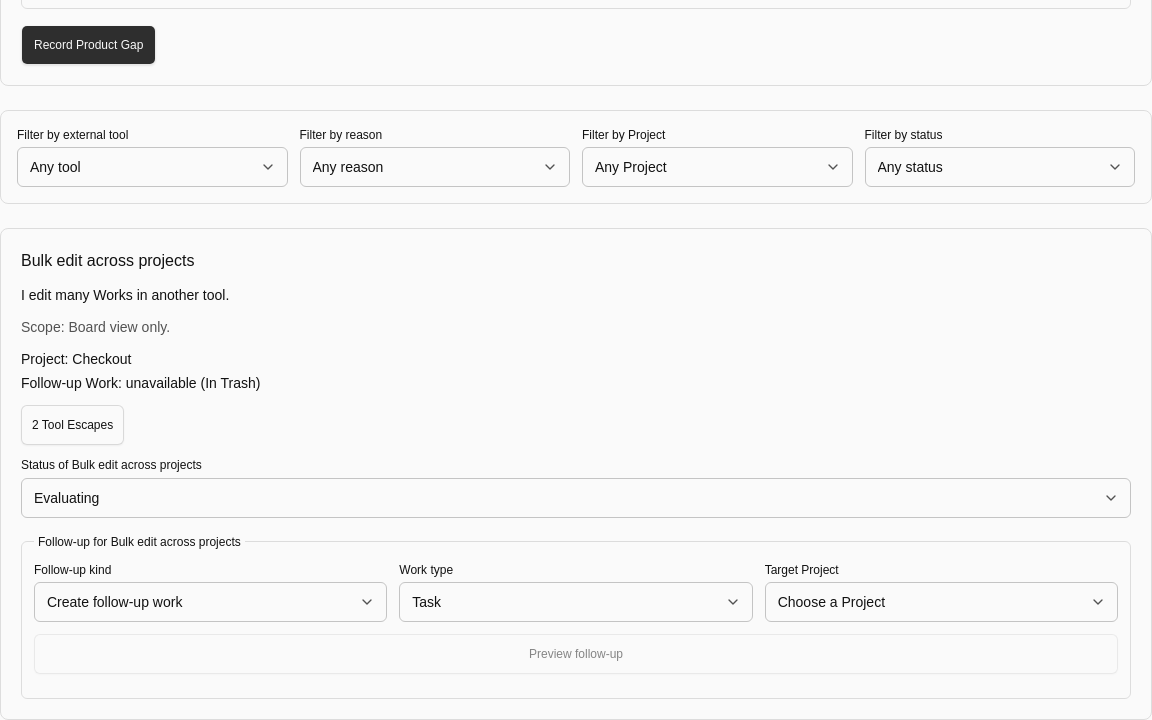
Test: changes status only through the founder's choice and reports a refusal
The image size is (1152, 720).
(page scrolled)
Select "Evaluating" in the dropdown labelled "Status of Bulk edit across projects" at (576, 498), box [21,478,1131,518]
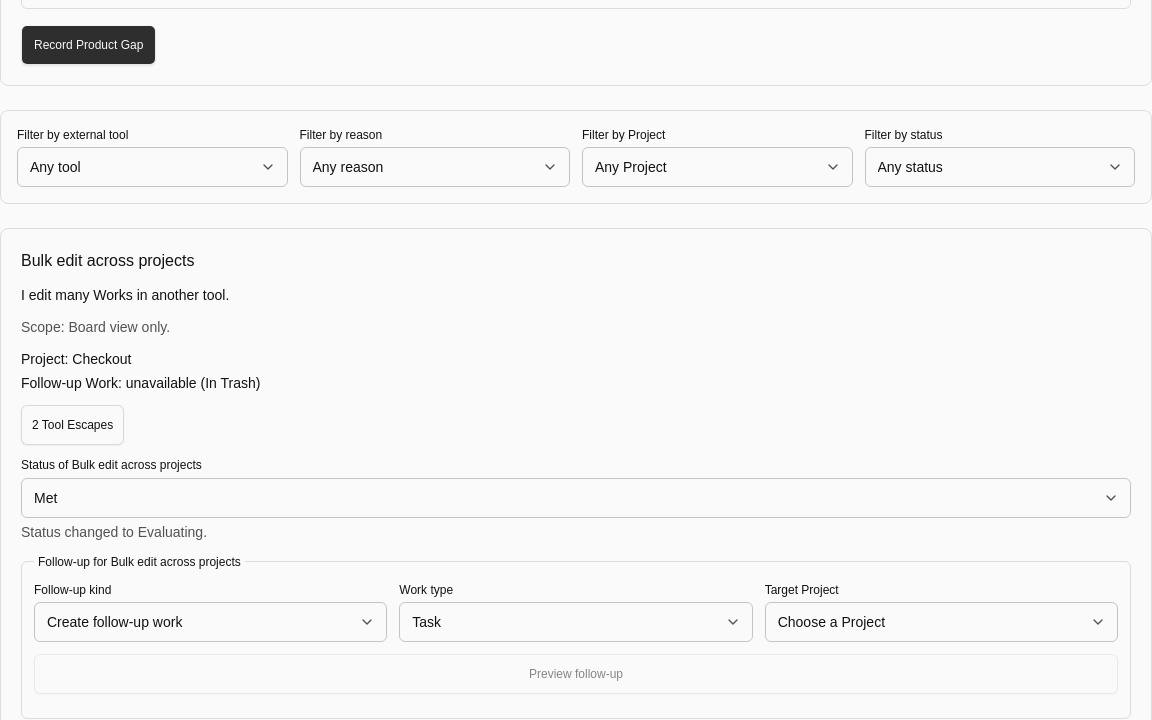
Expected: the text "Status changed to Evaluating." is shown, [21,524,207,540]
Select "Met" in the dropdown labelled "Status of Bulk edit across projects" at (576, 498), box [21,478,1131,518]
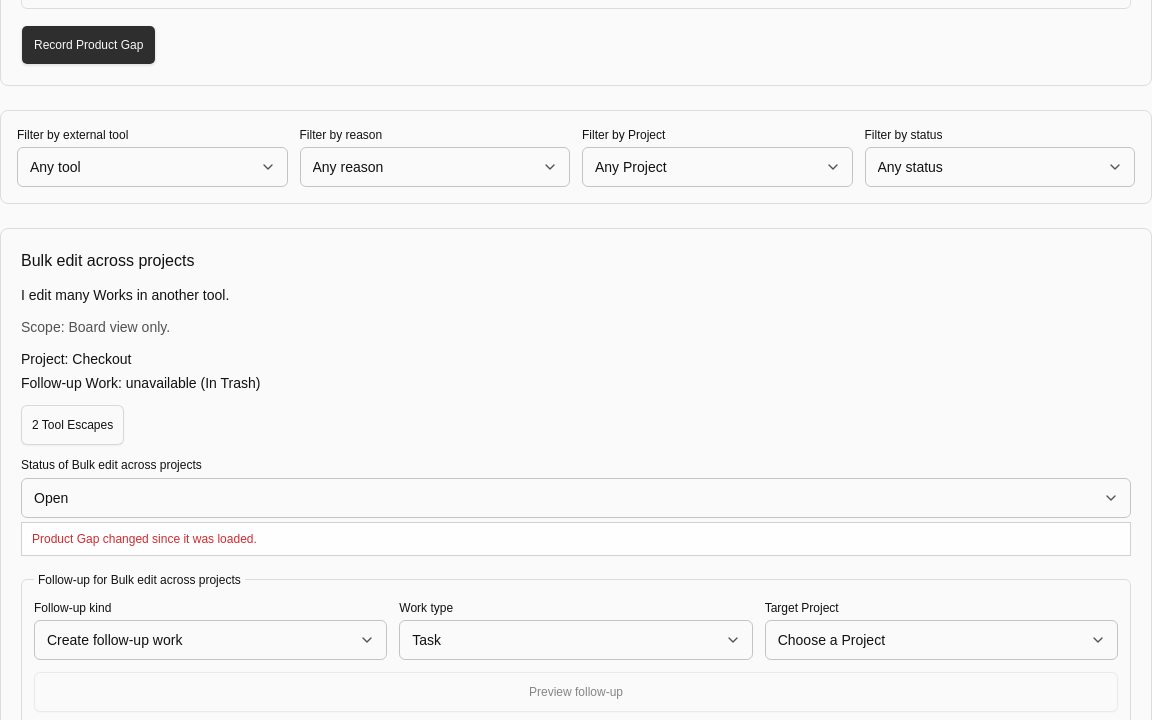
Expected: the text "Product Gap changed since it was loaded." is shown, [21,522,1131,556]
